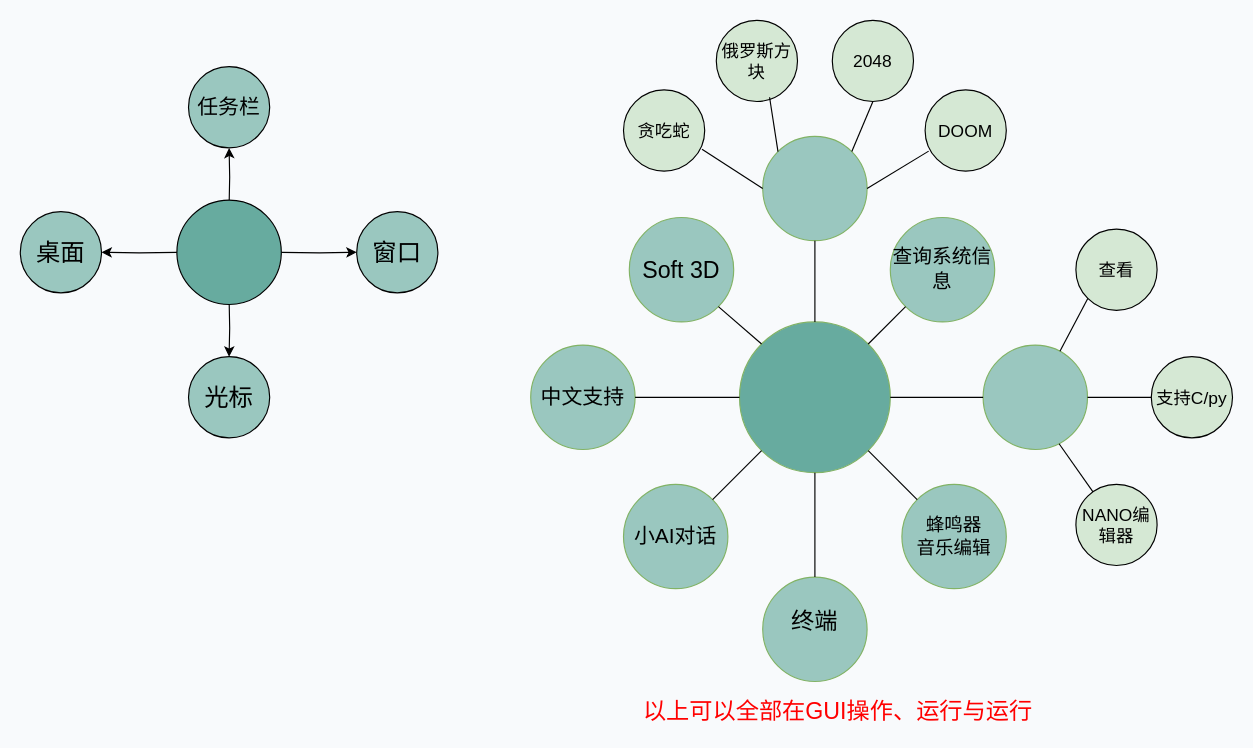
Image size: 1253x748. Some labels were removed from this diagram. Each missing label, with the centre of its shape:
GUI: (x=228, y=251)
文件管理系统: (x=1035, y=396)
游戏: (x=814, y=188)
软件生态: (x=814, y=397)
